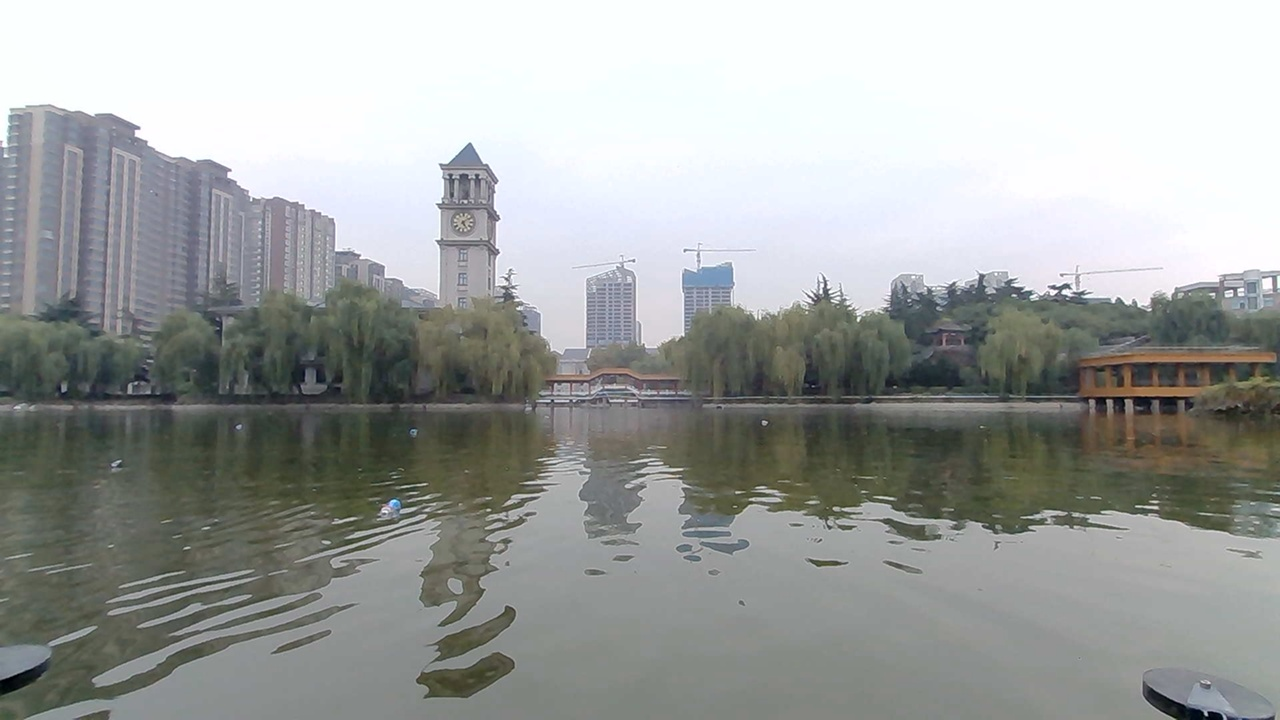bottle: (376, 494, 431, 527), (400, 409, 439, 442), (95, 454, 135, 483), (231, 407, 265, 437), (741, 405, 779, 428)
